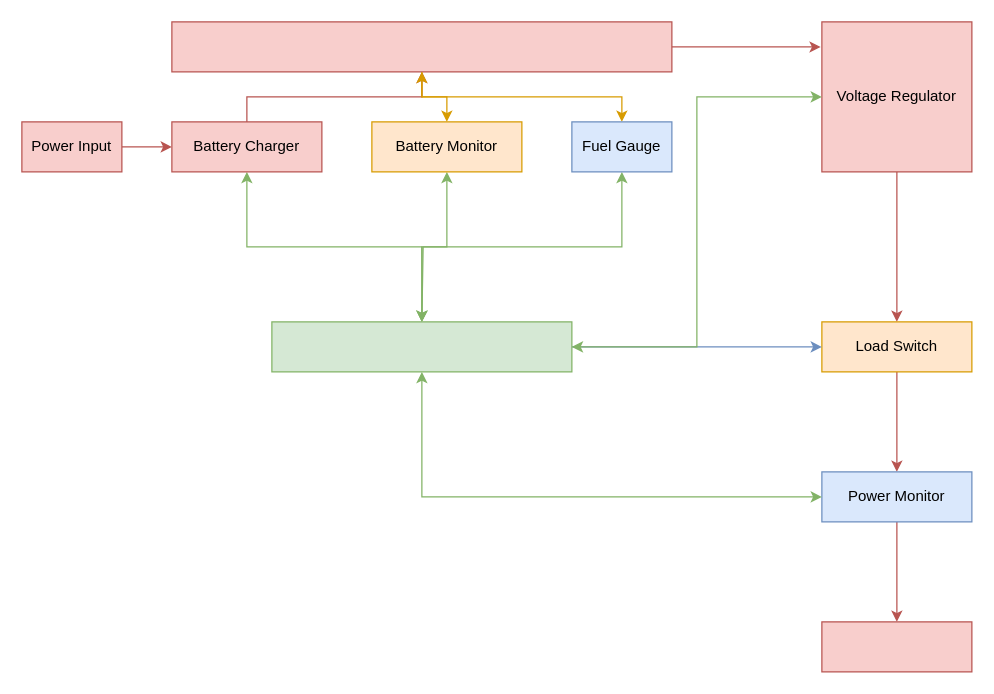
Image size: 994x694. Some labels were removed from this diagram. The shapes that lost their labels are listed below. From the top down, each one's centre as x and y in pixels, then its label:
point (421, 46): Batteries
point (421, 346): Electrical Power System Controller
point (896, 646): System Power
